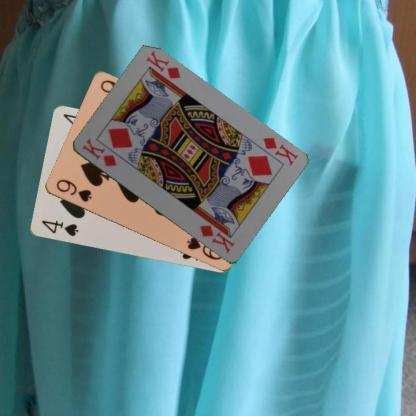4s: (38, 218, 80, 238)
9s: (53, 176, 93, 204)
Kd: (253, 134, 299, 167), (79, 135, 117, 168)
